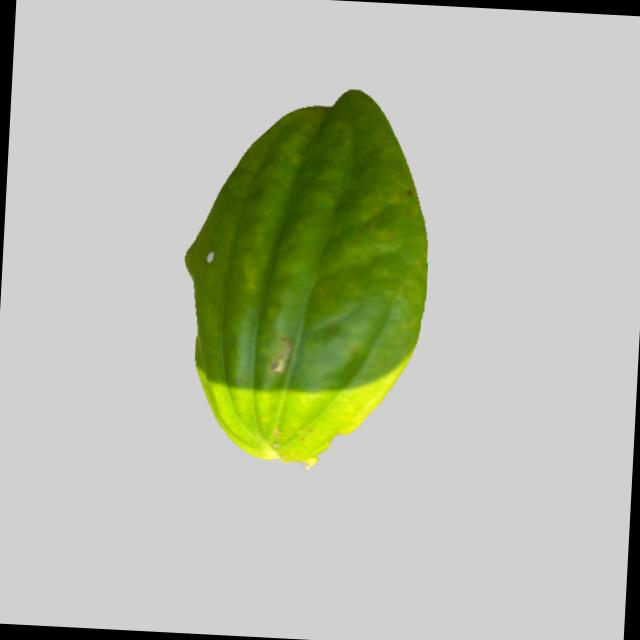yellow-mottle-virus: (164, 76, 460, 475)
